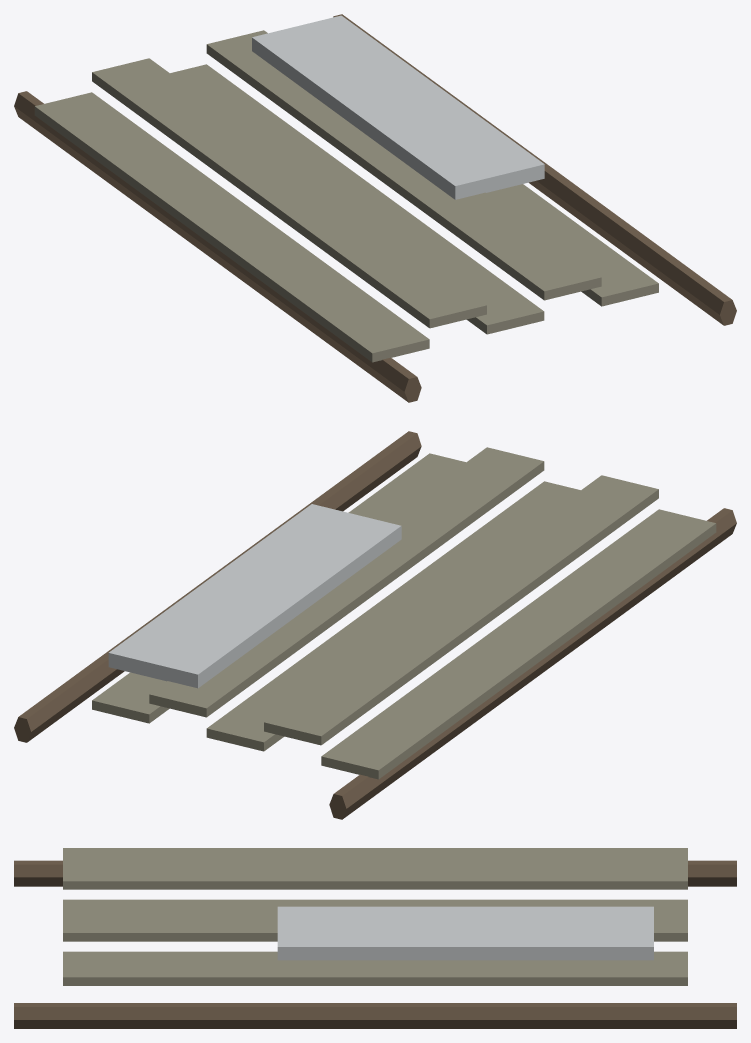
File: community_banner.glb
3 views of the same model, one above another, from view 1: azimuth 30°, elevation 25°; view 2: azimuth 150°, elevation 25°; view 3: azimuth 270°, elevation 25° (orthographic). The views are drawn at different scales.
Parts seen in each view (by area): view 1: community_banner; view 2: community_banner; view 3: community_banner.
Boxes of the visible parts, <box> form: community_banner: <box>14,14,736,402</box>; community_banner: <box>14,431,736,819</box>; community_banner: <box>14,848,736,1028</box>.
Size of the model in its own units: 0.96 by 0.18 by 1.92.
